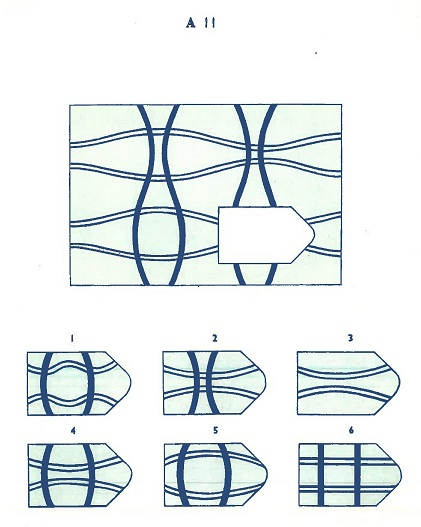Array 1: (21, 330, 136, 421)
Array 2: (156, 331, 271, 421)
Array 3: (293, 331, 403, 422)
Array 4: (22, 423, 136, 513)
Array 5: (156, 423, 275, 512)
Array 6: (294, 423, 405, 512)
Matrix: (63, 96, 347, 291)
Matrix Unknown: (215, 203, 317, 265)
